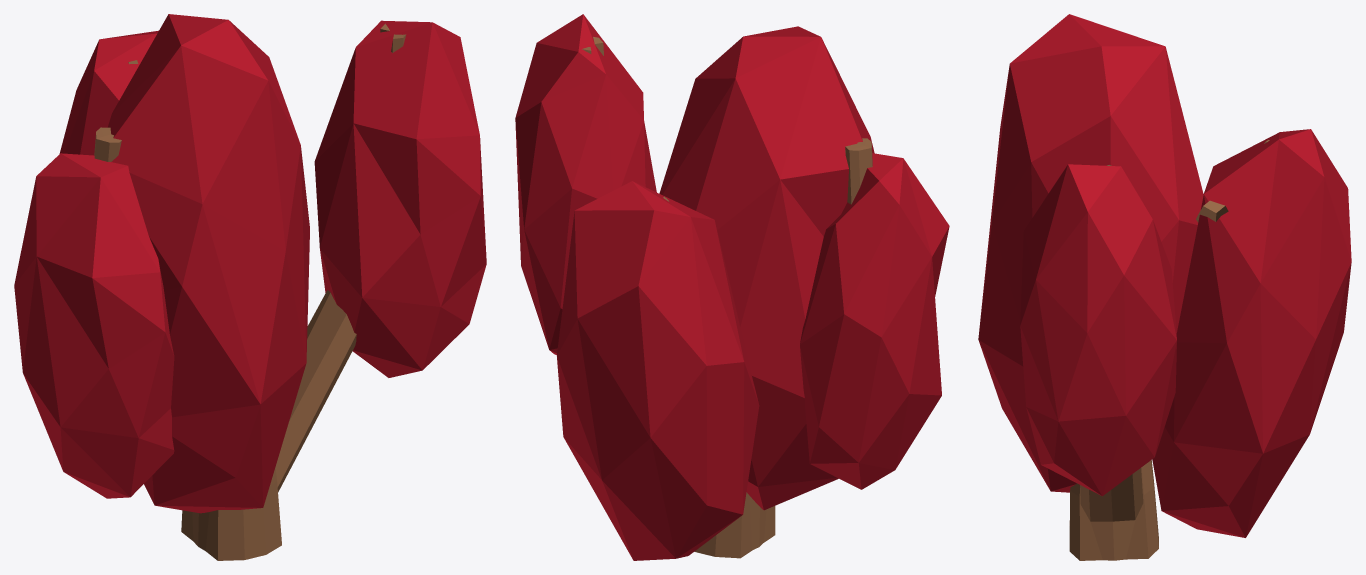
File: tree-dead-complete-13-005.glb
3 renders of one model, left to right at view 1: azimuth 30°, elevation 25°; view 2: azimuth 150°, elevation 25°; view 3: azimuth 270°, elevation 25°, orthographic. The views are drawn at different scales.
Visible parts, largest first — view 1: TREE 13.007_503, TREE 13.006_504; view 2: TREE 13.007_503, TREE 13.006_504; view 3: TREE 13.007_503, TREE 13.006_504.
Boxes of the visible parts, bbox=[...] form: TREE 13.007_503: bbox=[14, 14, 486, 513]; TREE 13.006_504: bbox=[94, 23, 406, 560]; TREE 13.007_503: bbox=[515, 14, 949, 560]; TREE 13.006_504: bbox=[582, 37, 872, 558]; TREE 13.007_503: bbox=[978, 14, 1351, 537]; TREE 13.006_504: bbox=[1069, 140, 1269, 560].
Bounding box in the file's own units: 0.9813 × 1.14 × 0.7767.
